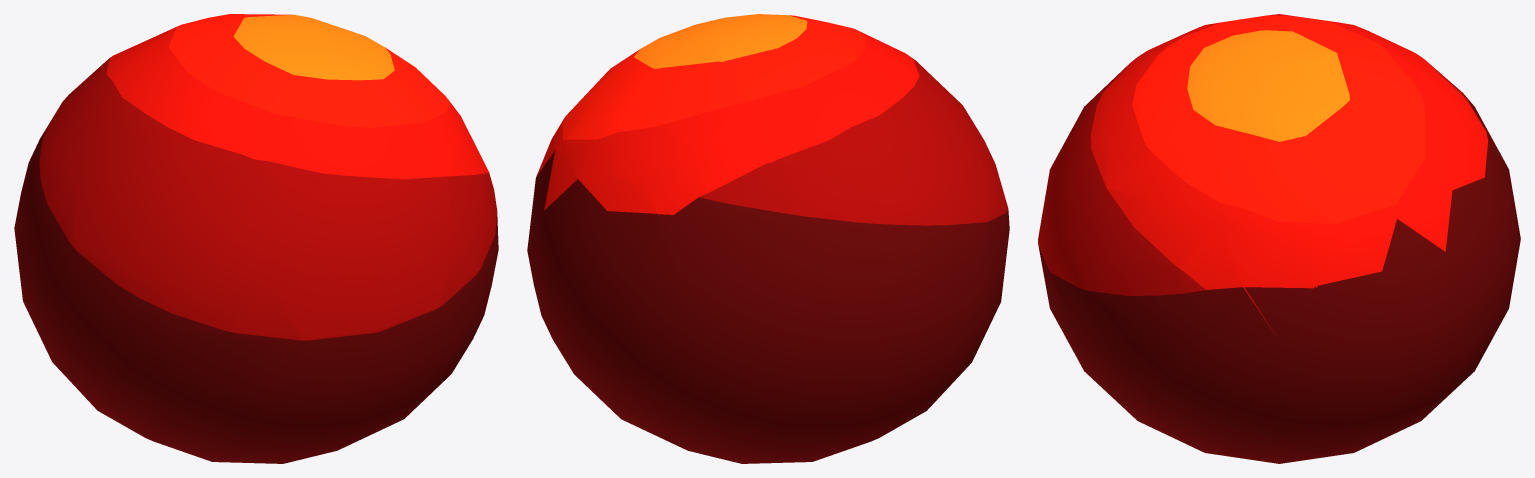
File: fruit_ember.glb
3 views of the same model, side by side, from view 1: azimuth 30°, elevation 25°; view 2: azimuth 150°, elevation 25°; view 3: azimuth 270°, elevation 25° (orthographic).
Parts seen in each view (by area): view 1: fruit_ember; view 2: fruit_ember; view 3: fruit_ember.
Boxes of the visible parts, x1,y1,x2,y2 form: fruit_ember: (14, 14, 498, 463); fruit_ember: (527, 14, 1009, 463); fruit_ember: (1038, 14, 1520, 463).
Size of the model in its own units: 6 by 5.5 by 6.
